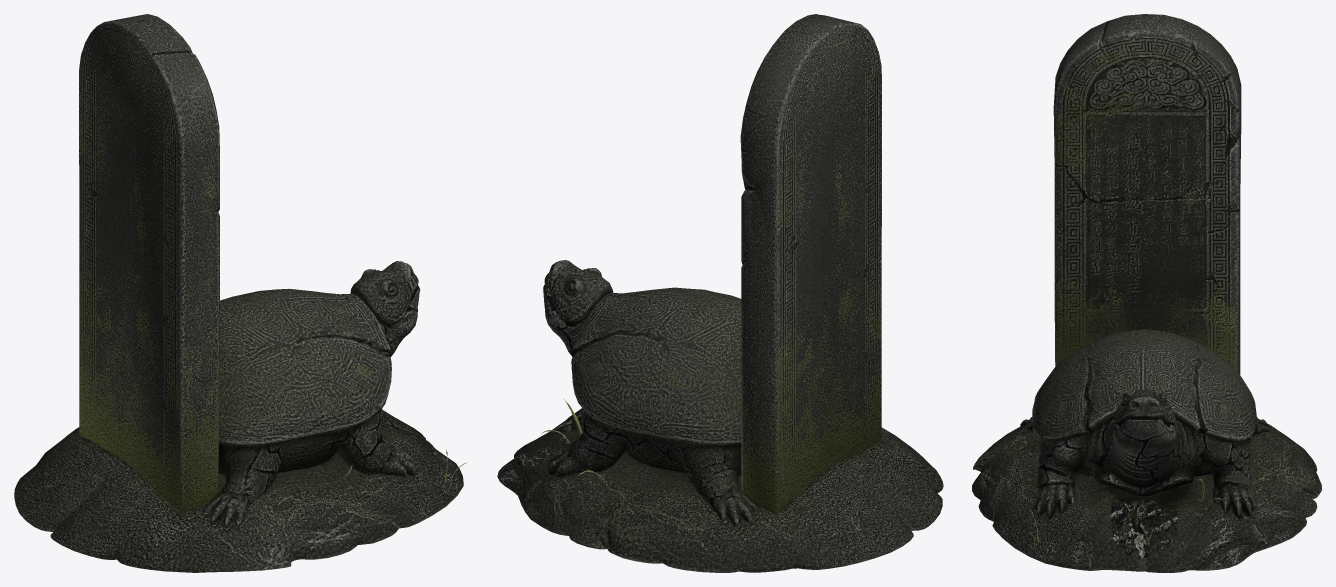
The model's file is tripo_convert_0cf5f6d6-c417-422a-bfd6-acbf130e3701.fbx.
3 views of the same model, side by side, from view 1: azimuth 30°, elevation 25°; view 2: azimuth 150°, elevation 25°; view 3: azimuth 270°, elevation 25° (orthographic). The views are drawn at different scales.
Parts seen in each view (by area): view 1: tripo_node_0cf5f6d6; view 2: tripo_node_0cf5f6d6; view 3: tripo_node_0cf5f6d6.
Boxes of the visible parts, bbox=[...] form: tripo_node_0cf5f6d6: bbox=[14, 14, 467, 572]; tripo_node_0cf5f6d6: bbox=[497, 14, 943, 572]; tripo_node_0cf5f6d6: bbox=[972, 14, 1321, 572].
Bounding box in the file's own units: 0.8379 × 0.998 × 0.7363.
Materials: 1 (1 with a texture image).
